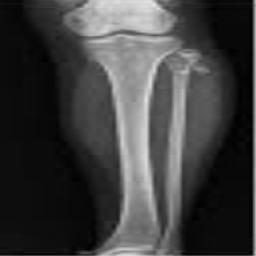cancer: (164, 53, 211, 74)
